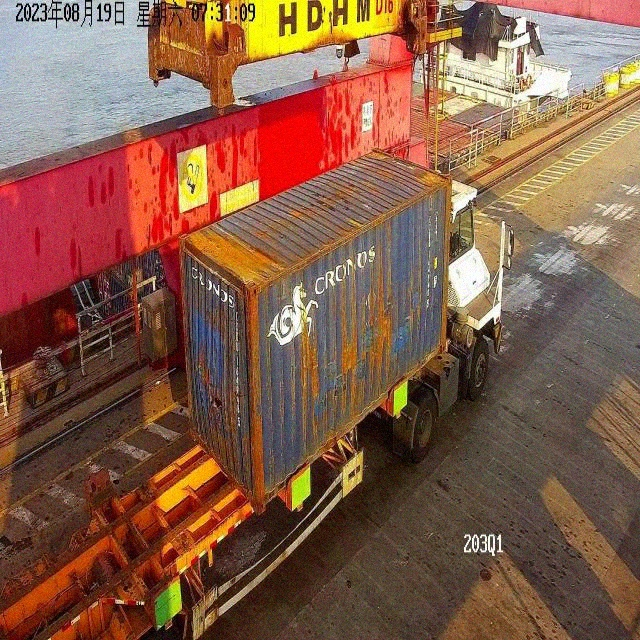Hole: (209, 388, 228, 417)
Rusty: (194, 223, 284, 290), (176, 238, 203, 446), (245, 284, 268, 515), (370, 233, 395, 401), (301, 292, 323, 451), (342, 251, 360, 421), (438, 176, 454, 358), (205, 403, 242, 476), (418, 163, 446, 195)
